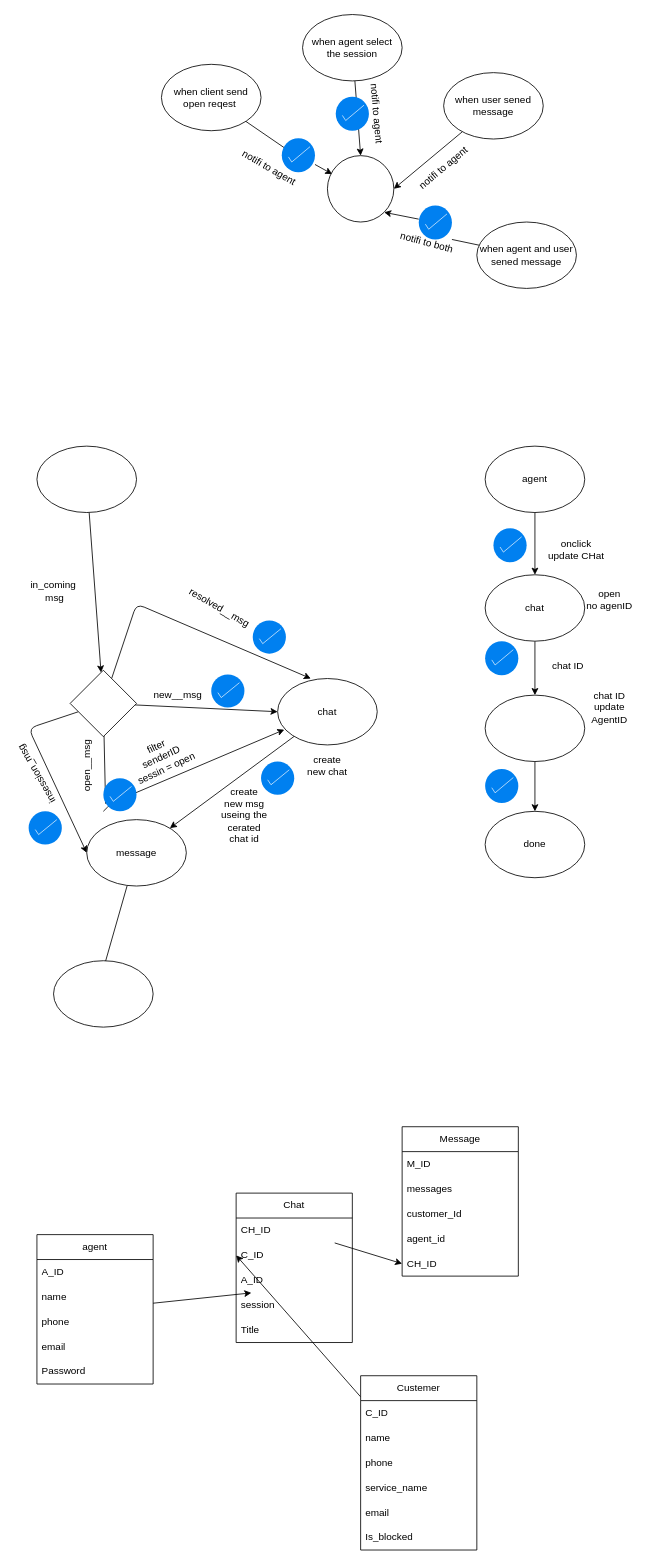
Image size: 649x1565. Some labels were removed from this diagram. Each missing label, with the centre of its shape:
emit notification: (360,188)
end: (103,993)
msg: (534,728)
user: (86,479)
